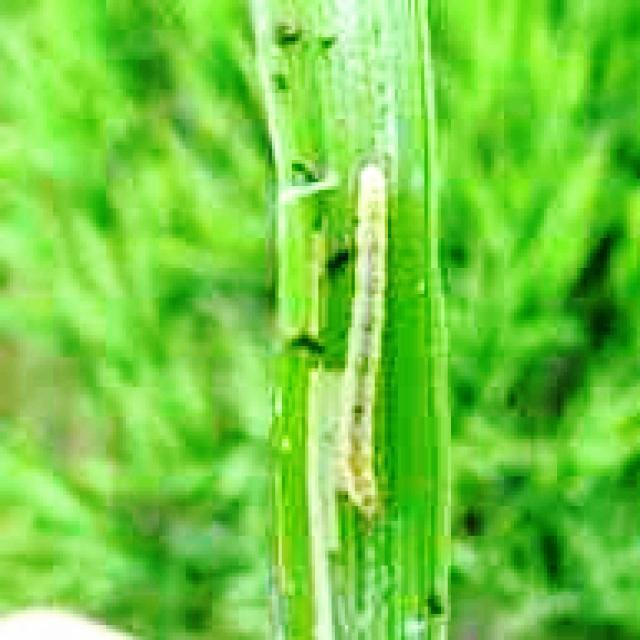leaf-folder: (326, 154, 402, 520)
